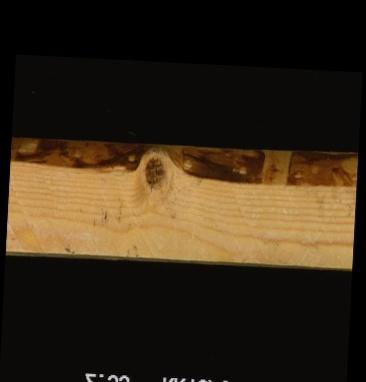sound_knot: (141, 156, 170, 188)
wave: (182, 148, 355, 187), (10, 136, 151, 178)
